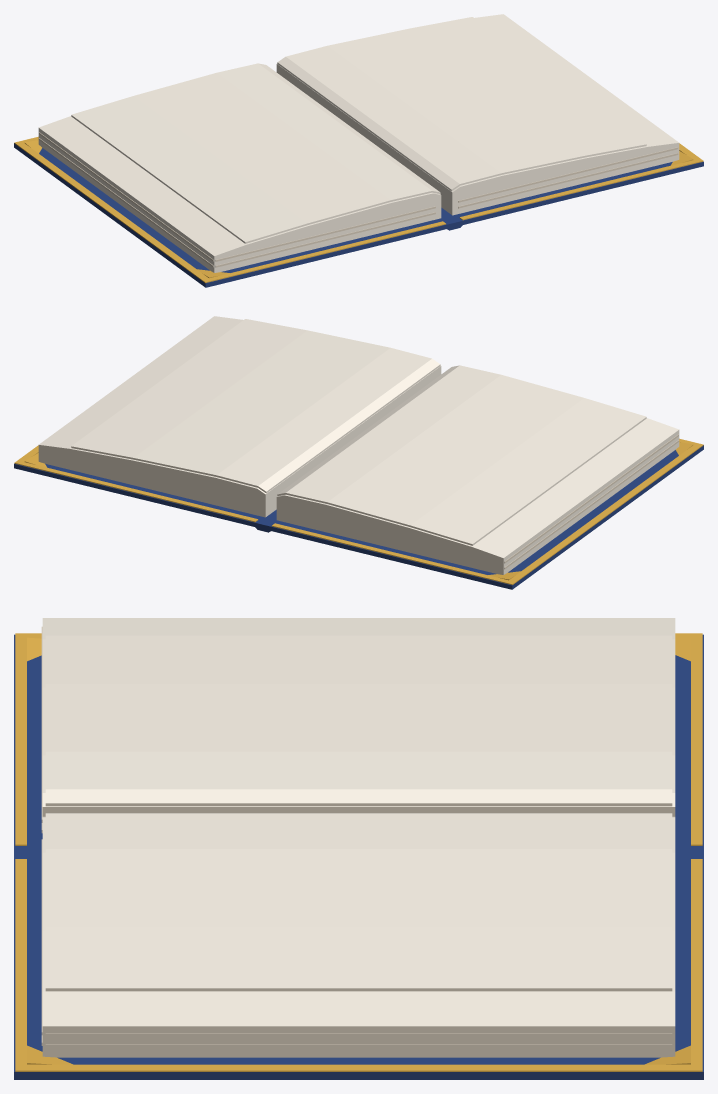
Rendered from popup_book.glb.
The picture shows the model from 3 angles, top to bottom: view 1: azimuth 30°, elevation 25°; view 2: azimuth 150°, elevation 25°; view 3: azimuth 270°, elevation 25°; orthographic projection. The views are drawn at different scales.
Visible parts, largest first — view 1: page_hinge_left, page_hinge_right, pages_left, pages_right, cover_left, cover_right; view 2: page_hinge_left, page_hinge_right, pages_left, pages_right, cover_left, cover_right; view 3: page_hinge_right, page_hinge_left, pages_right, cover_right, pages_left, cover_left, spine.
Boxes of the visible parts, x1,y1,x2,y2 form: page_hinge_left: (71, 63, 440, 243); page_hinge_right: (277, 17, 646, 191); pages_left: (38, 116, 441, 272); pages_right: (276, 14, 679, 215); cover_left: (14, 136, 446, 287); cover_right: (455, 143, 703, 224); page_hinge_left: (277, 365, 646, 545); page_hinge_right: (71, 319, 440, 493); pages_left: (276, 418, 679, 574); pages_right: (38, 316, 441, 517); cover_left: (271, 438, 703, 589); cover_right: (14, 445, 262, 526); page_hinge_right: (45, 813, 672, 991); page_hinge_left: (45, 635, 672, 806); pages_right: (41, 816, 675, 1057); cover_right: (14, 859, 703, 1079); pages_left: (41, 618, 675, 833); cover_left: (14, 633, 703, 845); spine: (14, 846, 703, 860).
Bounding box in the file's own units: 0.36 × 0.0249 × 0.24.
